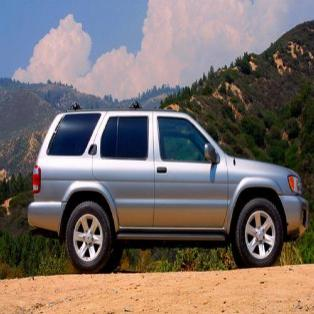Auto: (28, 106, 309, 270)
